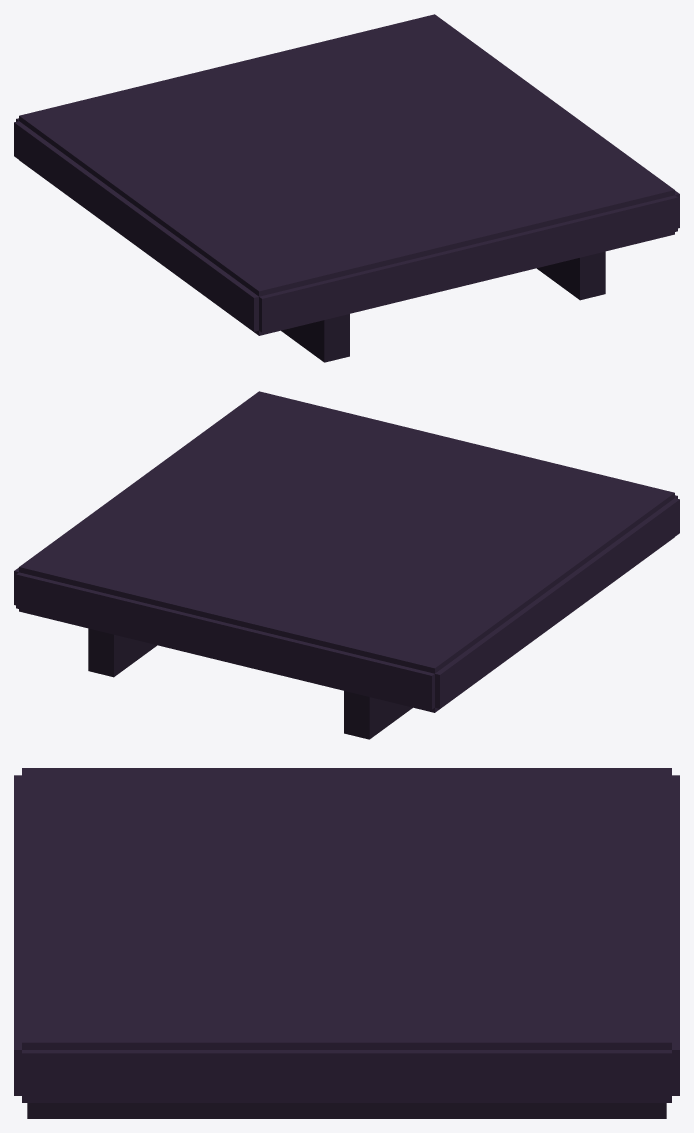
The model's file is obsidian_platform_v0.glb.
3 views of the same model, one above another, from view 1: azimuth 30°, elevation 25°; view 2: azimuth 150°, elevation 25°; view 3: azimuth 270°, elevation 25° (orthographic). The views are drawn at different scales.
Parts seen in each view (by area): view 1: obsidian_platform_v0; view 2: obsidian_platform_v0; view 3: obsidian_platform_v0.
Boxes of the visible parts, box(x1,y1,x2,y2) form: obsidian_platform_v0: box(14, 14, 679, 362); obsidian_platform_v0: box(14, 391, 679, 739); obsidian_platform_v0: box(14, 768, 679, 1118).
Bounding box in the file's own units: 1 × 0.2 × 1.
